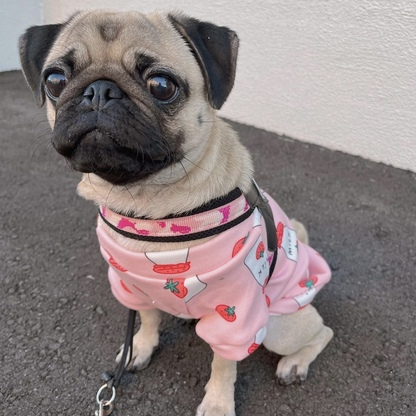Pug: (13, 4, 341, 416)
